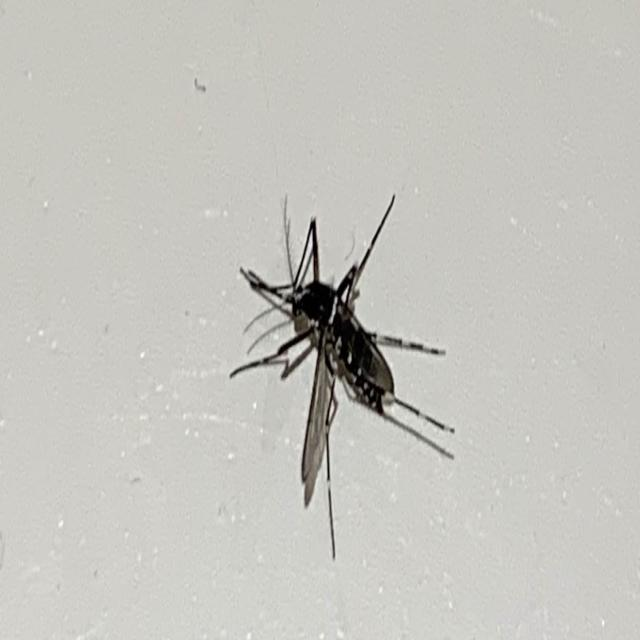albopictus: (223, 176, 452, 578)
